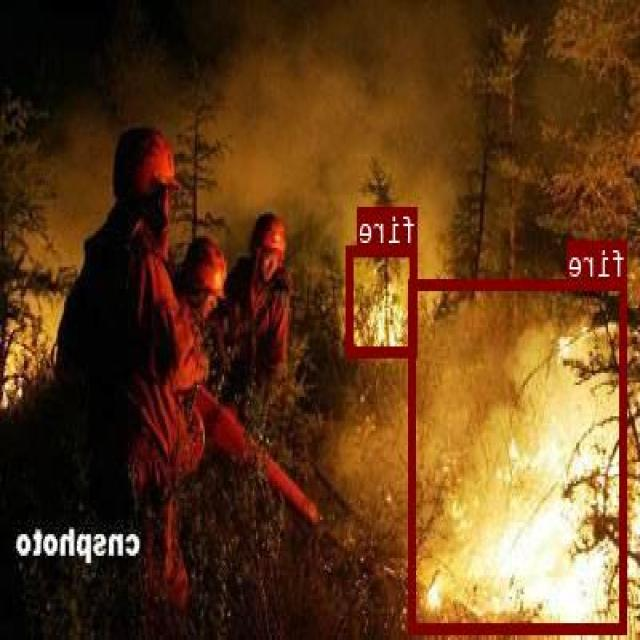fire: (410, 279, 628, 633), (348, 244, 418, 356)
